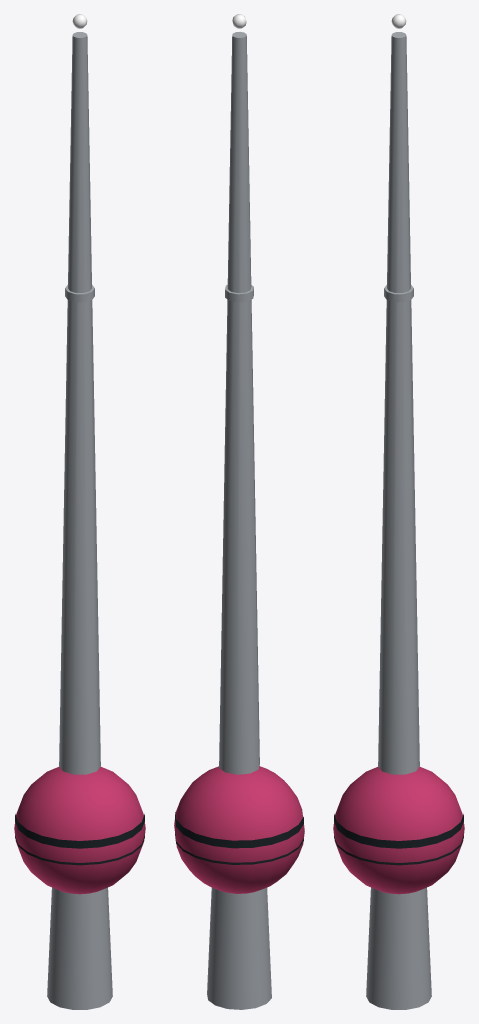
Rendered from PEARL_TOP.glb.
The picture shows the model from 3 angles, left to right: view 1: azimuth 90°, elevation 25°; view 2: azimuth 210°, elevation 25°; view 3: azimuth 270°, elevation 25°; orthographic projection.
Parts seen in each view (by area): view 1: steel_0, carPaint_1, glass_2; view 2: steel_0, carPaint_1, glass_2; view 3: steel_0, carPaint_1, glass_2.
Part boxes in pixels (x1,y1,x2,y2): steel_0: (47, 32, 112, 1009); carPaint_1: (14, 766, 145, 894); glass_2: (15, 814, 144, 865); steel_0: (207, 31, 271, 1009); carPaint_1: (174, 766, 304, 893); glass_2: (175, 812, 303, 864); steel_0: (366, 32, 431, 1009); carPaint_1: (333, 766, 464, 894); glass_2: (334, 814, 463, 865).
Size of the model in its own units: 4.4 by 36.25 by 4.4.
